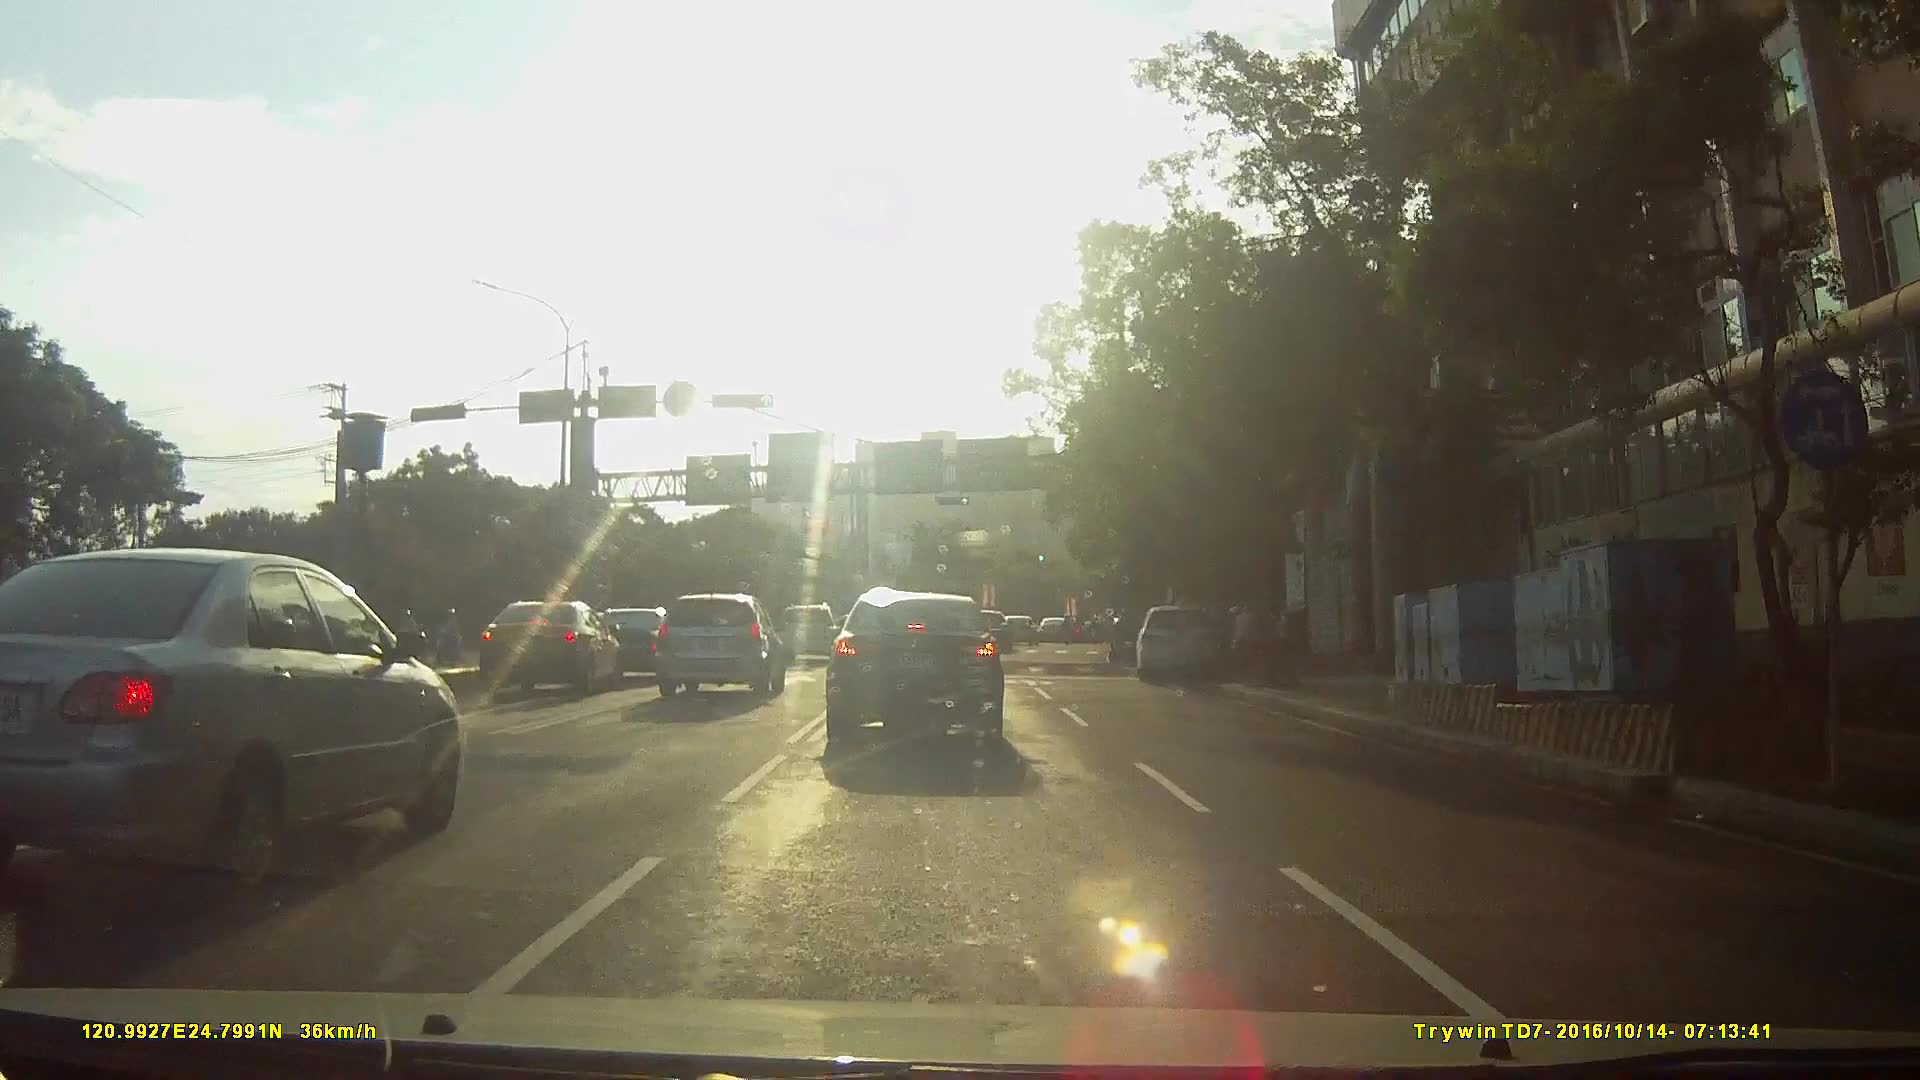pedestrian: (1229, 604, 1259, 669)
rider: (436, 605, 465, 667)
vehicle: (1, 542, 485, 901), (817, 600, 1021, 773), (450, 595, 610, 696), (649, 588, 785, 699), (573, 604, 672, 680), (1141, 603, 1230, 686), (772, 598, 843, 663), (961, 607, 1018, 654), (1004, 612, 1043, 644), (1039, 615, 1078, 643)
